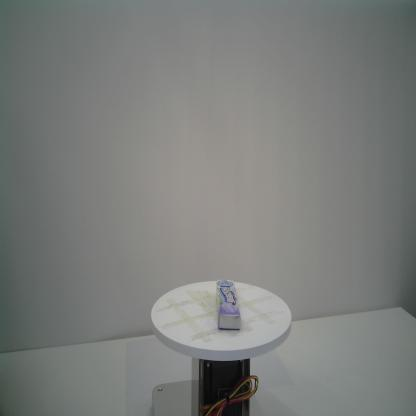Candy: (216, 280, 241, 330)
